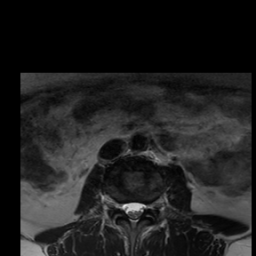CCS_normal: (129, 197, 137, 228)
LFS_stenosis: (144, 197, 152, 214)
LLS_normal: (137, 197, 144, 222)
RFS_stenosis: (115, 197, 122, 216)
RLS_normal: (123, 197, 129, 219)
